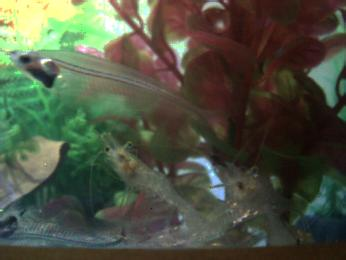glassfish: (7, 47, 214, 122), (1, 208, 132, 250)
siberian prawn: (95, 131, 213, 236), (217, 163, 309, 246)
